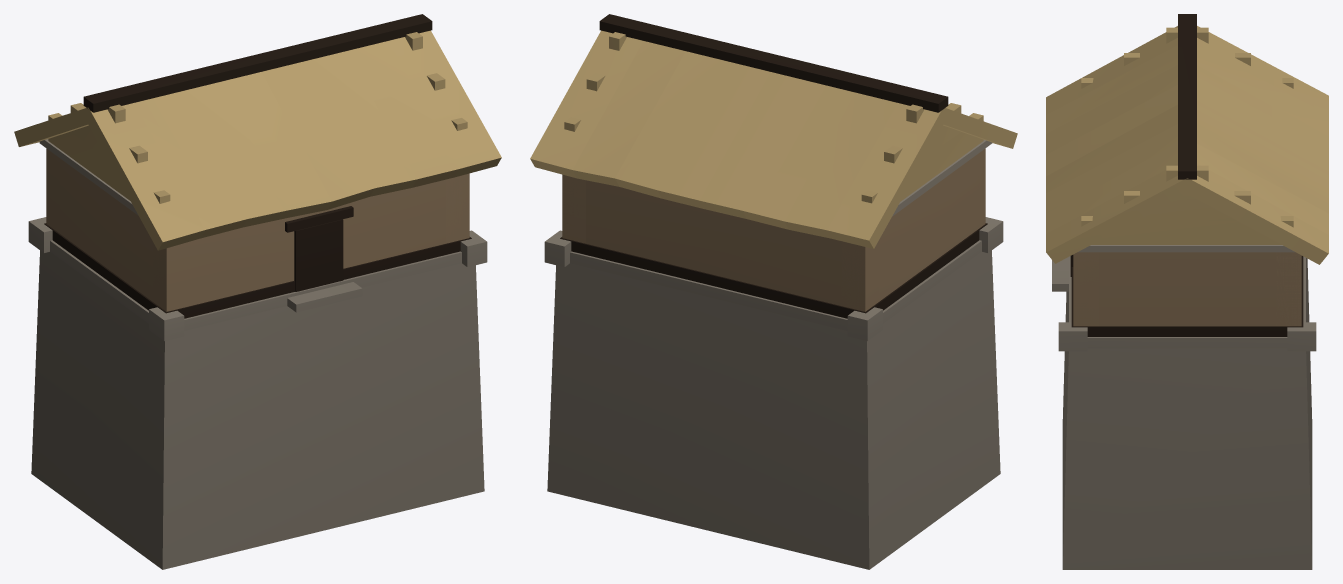
The model's file is killke_house_earth_lod0.glb.
The picture shows the model from 3 angles, left to right: view 1: azimuth 30°, elevation 25°; view 2: azimuth 150°, elevation 25°; view 3: azimuth 270°, elevation 25°; orthographic projection. The views are drawn at different scales.
Parts seen in each view (by area): view 1: GEO-Arch_killke_house_earth_LOD0; view 2: GEO-Arch_killke_house_earth_LOD0; view 3: GEO-Arch_killke_house_earth_LOD0.
Part boxes in pixels (x1=…): GEO-Arch_killke_house_earth_LOD0: x1=14, y1=14, x2=501, y2=569; GEO-Arch_killke_house_earth_LOD0: x1=530, y1=14, x2=1017, y2=569; GEO-Arch_killke_house_earth_LOD0: x1=1046, y1=14, x2=1328, y2=569.
Size of the model in its own units: 7.16 by 8.55 by 5.44.
